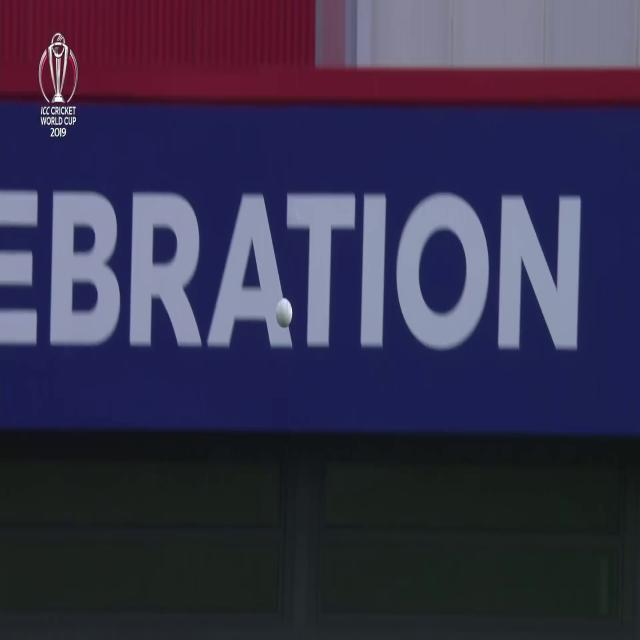ball: (274, 294, 295, 332)
